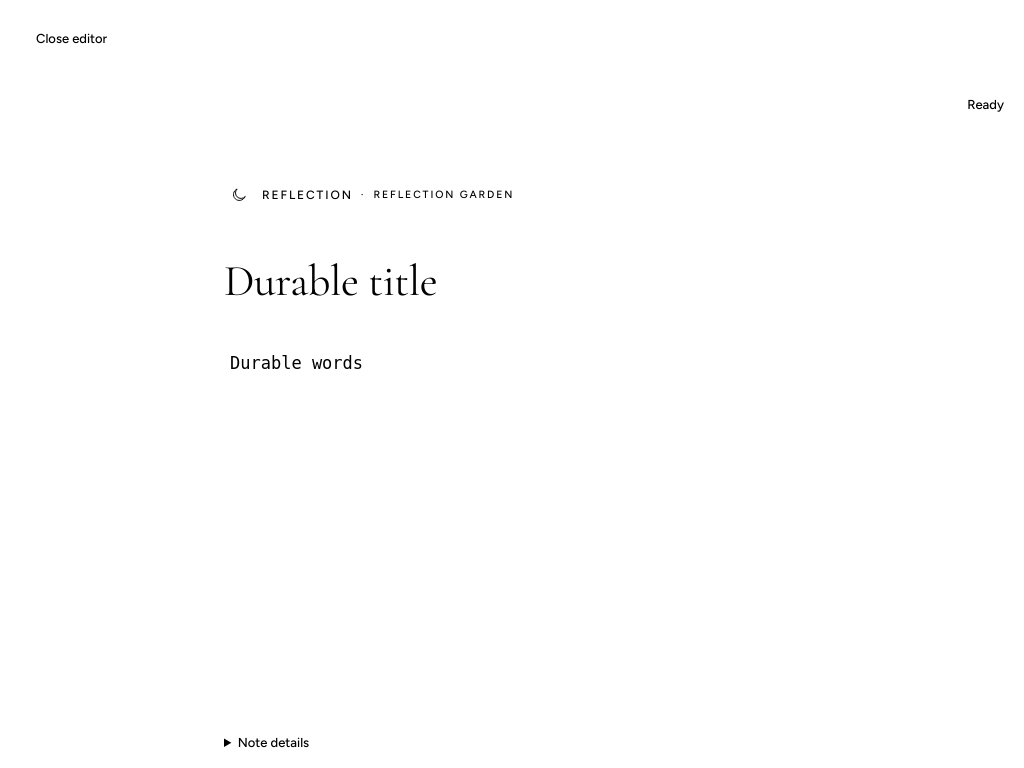
keeps both live conflict versions available when manual merge loading fails
Step 1. Replace the text in the field named "title" with "Local title" → (512, 281), box [224,258,800,304]
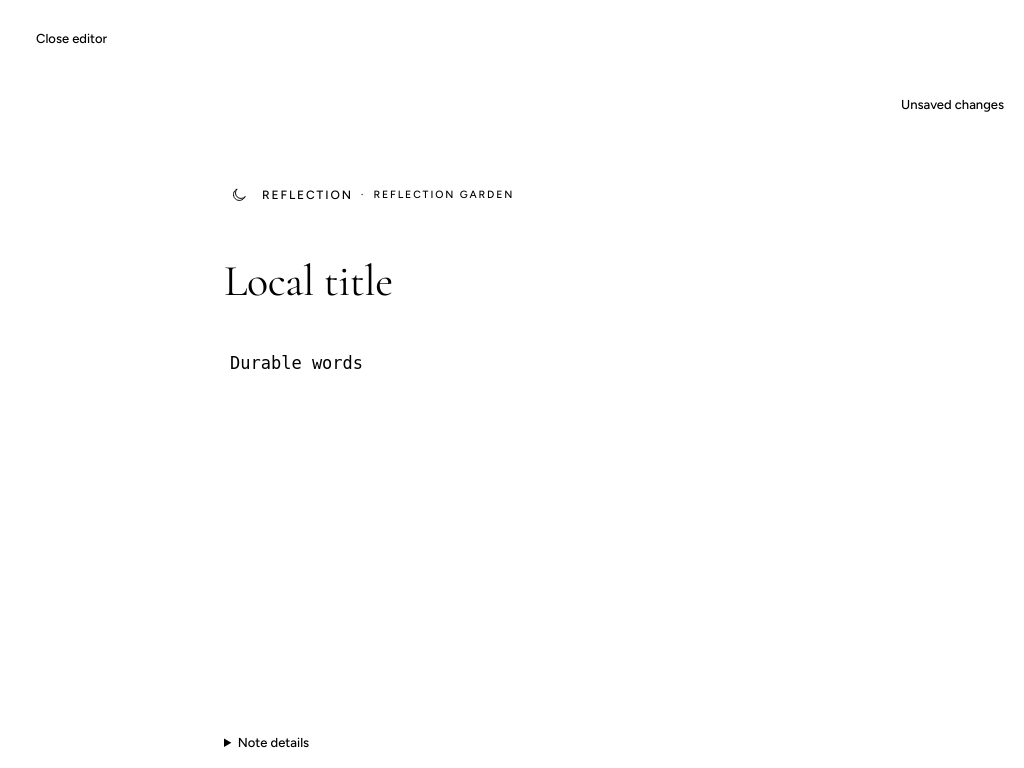
Step 2. Click the button "Close editor" → (72, 38), box [20,16,123,60]
(page scrolled)
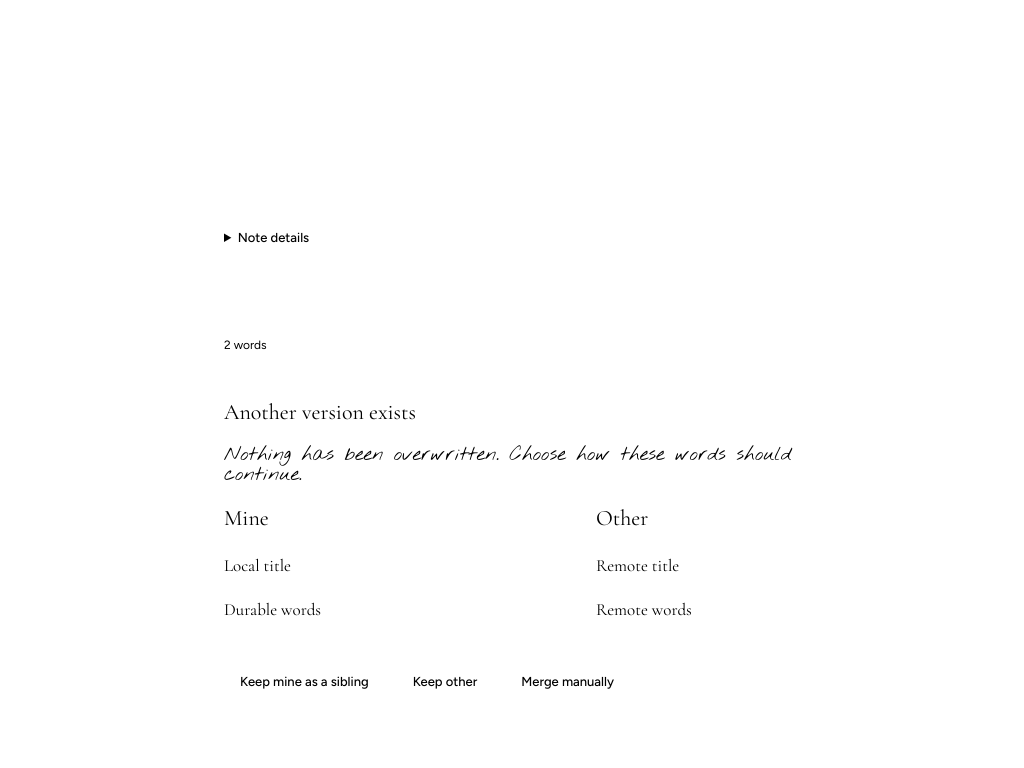
Expected: the button "Merge manually" is shown
Step 3. Click the button "Merge manually" → (568, 682), box [505,660,630,704]
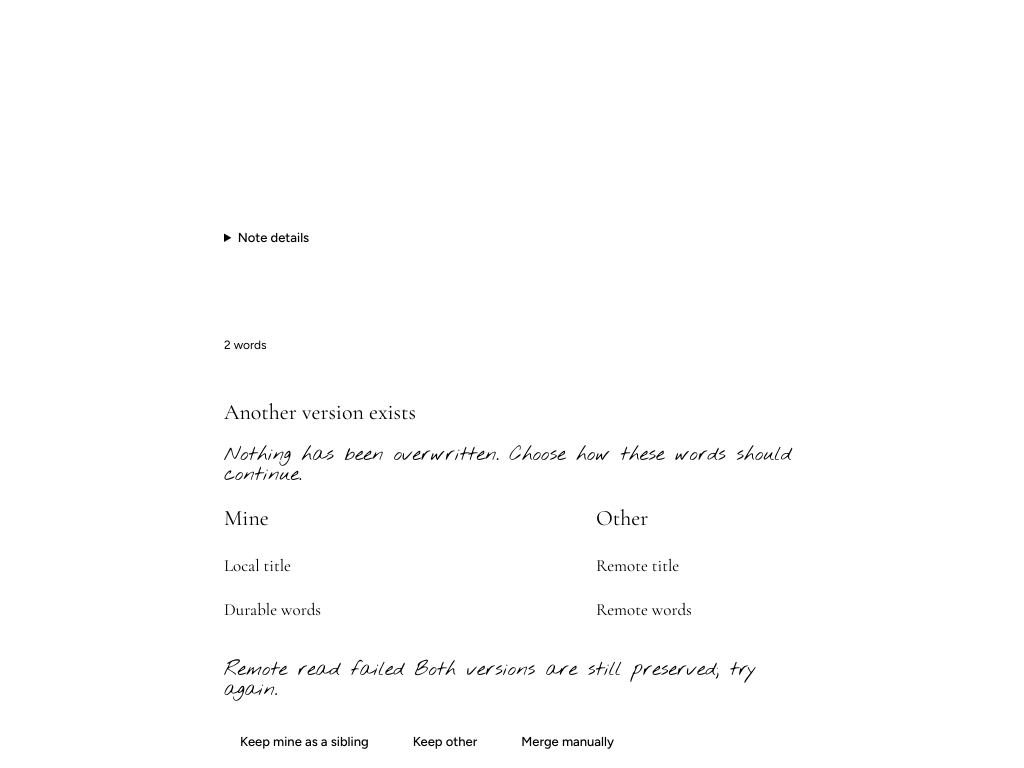
Expected: the element named "Your version" shows "Local title", [224,555,291,576]
Expected: the element named "Other version" shows "Remote title", [596,555,679,576]
Expected: the text "Remote read failed Both versions are still preserved; try again." is shown, [224,660,800,700]
